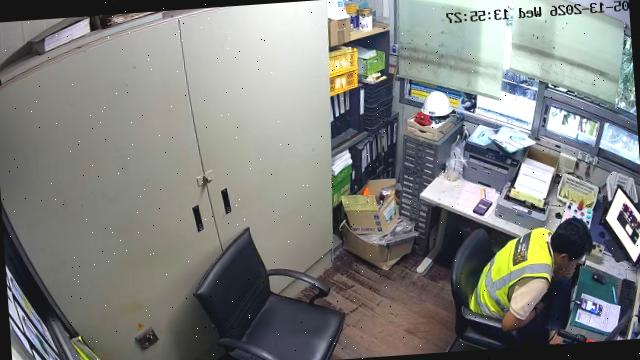Head: (550, 219, 593, 268)
People: (469, 219, 593, 344)
Phone: (581, 298, 601, 315), (473, 199, 492, 215)
